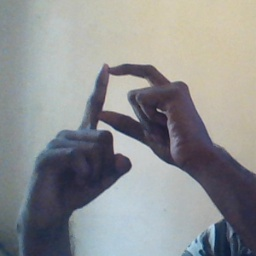D: (66, 57, 187, 168)
